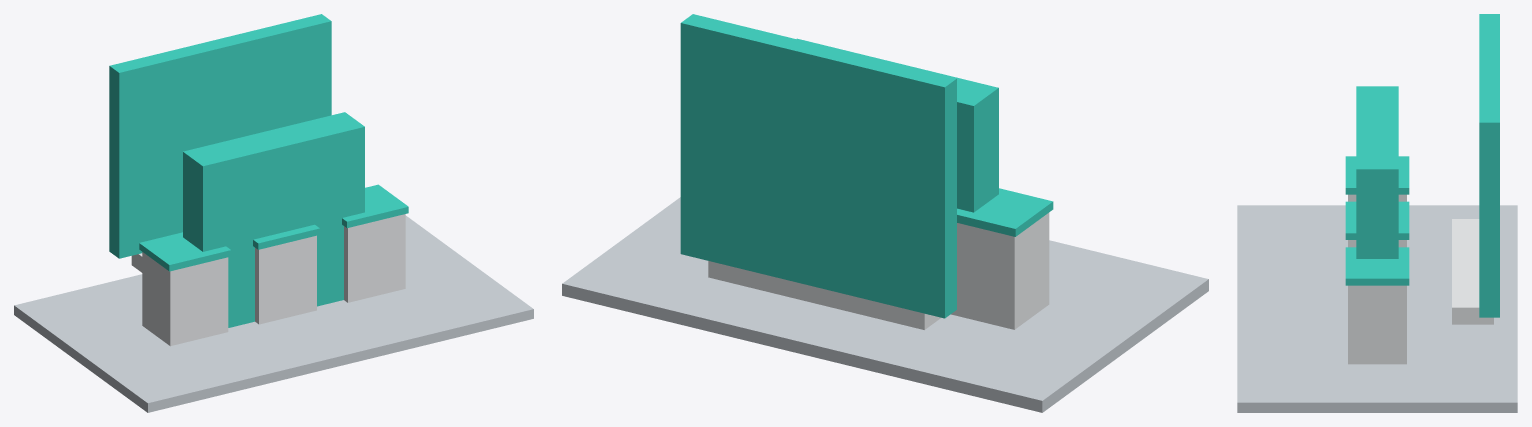
3 views of the same model, side by side, from view 1: azimuth 30°, elevation 25°; view 2: azimuth 150°, elevation 25°; view 3: azimuth 270°, elevation 25° (orthographic). The views are drawn at different scales.
Parts seen in each view (by area): view 1: Exhibition Booth Concept; view 2: Exhibition Booth Concept; view 3: Exhibition Booth Concept.
Part boxes in pixels (left/top/right/bottom): Exhibition Booth Concept: left=14, top=14, right=533, bottom=412; Exhibition Booth Concept: left=562, top=14, right=1208, bottom=412; Exhibition Booth Concept: left=1237, top=14, right=1517, bottom=412.
Bounding box in the file's own units: 5 × 2.9 × 3.
